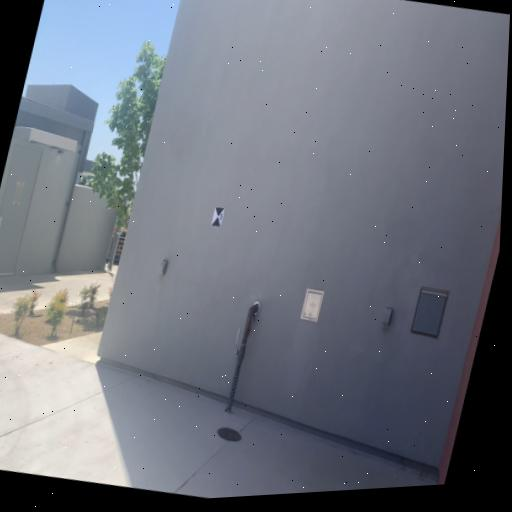target5: (211, 207, 225, 228)
